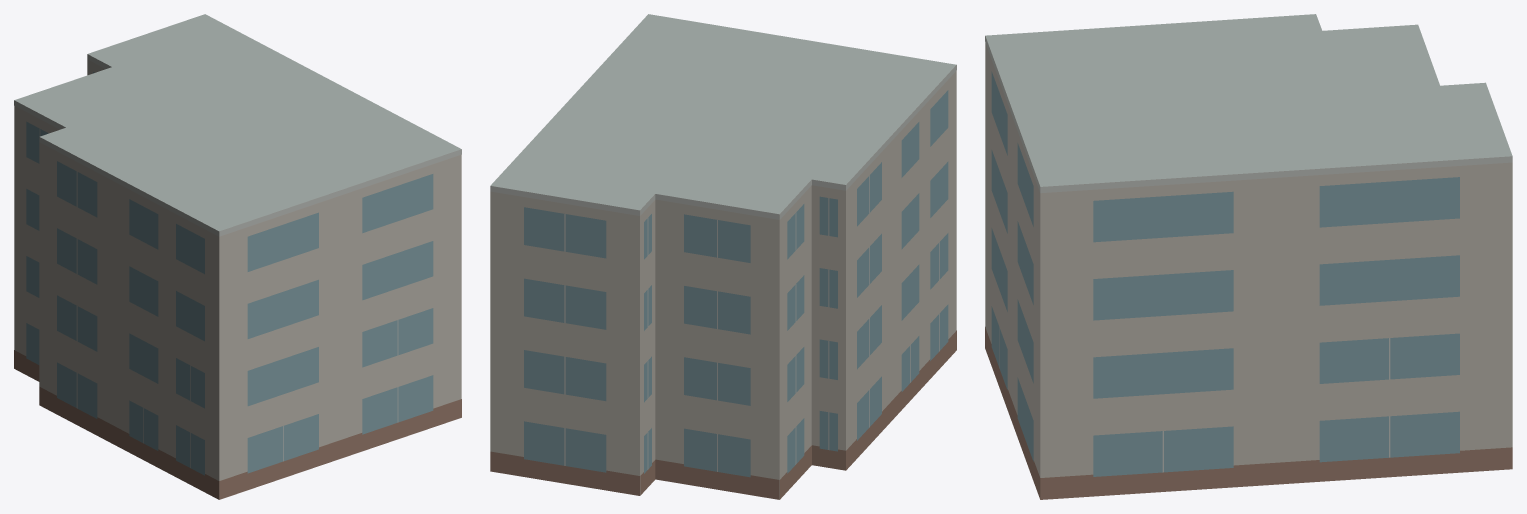
File: residential-ea2659b8-aa99-40a7-803b-0bcc589d4e7f.glb
3 views of the same model, side by side, from view 1: azimuth 30°, elevation 25°; view 2: azimuth 150°, elevation 25°; view 3: azimuth 270°, elevation 25° (orthographic). The views are drawn at different scales.
Parts seen in each view (by area): view 1: residential-ea2659b8-aa99-40a7-803b-0bcc589d4e7f.tmp; view 2: residential-ea2659b8-aa99-40a7-803b-0bcc589d4e7f.tmp; view 3: residential-ea2659b8-aa99-40a7-803b-0bcc589d4e7f.tmp.
Part boxes in pixels (bbox=[...]): residential-ea2659b8-aa99-40a7-803b-0bcc589d4e7f.tmp: bbox=[14, 14, 461, 499]; residential-ea2659b8-aa99-40a7-803b-0bcc589d4e7f.tmp: bbox=[490, 14, 956, 499]; residential-ea2659b8-aa99-40a7-803b-0bcc589d4e7f.tmp: bbox=[985, 14, 1512, 499].
Size of the model in its own units: 14.47 by 12.2 by 18.65.
